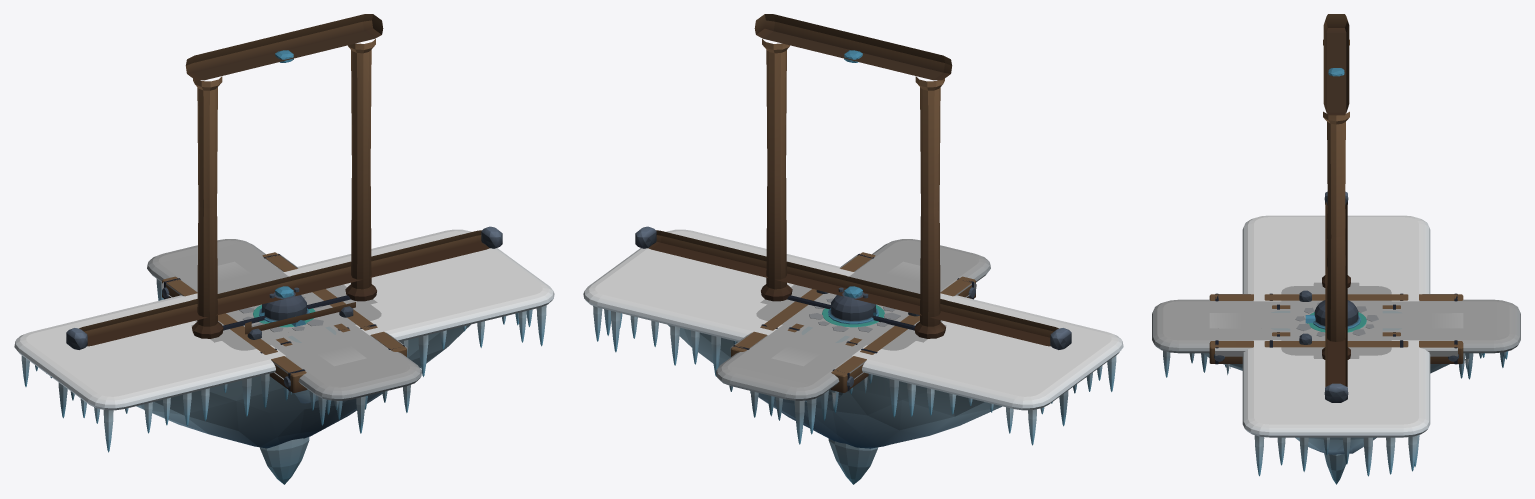
File: glacier-6-BM2rkBeL.glb
3 views of the same model, side by side, from view 1: azimuth 30°, elevation 25°; view 2: azimuth 150°, elevation 25°; view 3: azimuth 270°, elevation 25° (orthographic). The views are drawn at different scales.
Parts seen in each view (by area): view 1: block_28x2x10#0, pressFrame_7.5x6x2.5x7#0, block_6x2x20#0, mount_12.7#0, beam_2x2x14#0, belt_7x1.5x14x0#0, barHub_11x1.2#0, blade_3x10x1_wheel#0, belt_7x1.5x8x0#0, block_10x2x7#0, block_7x2x6#0, mount_10_wheel#0; view 2: block_28x2x10#0, pressFrame_7.5x6x2.5x7#0, block_6x2x20#0, mount_12.7#0, beam_2x2x14#0, belt_7x1.5x14x0#0, barHub_11x1.2#0, belt_7x1.5x8x0#0, block_7x2x6#0, blade_3x10x1_wheel#0, block_10x2x7#0, jumppad_5x1#0; view 3: block_28x2x10#0, block_6x2x20#0, pressFrame_7.5x6x2.5x7#0, beam_2x2x14#0, belt_7x1.5x14x0#0, mount_12.7#0, belt_7x1.5x8x0#0, block_10x2x7#0, block_7x2x6#0, block_5x2x10#0, jumppad_5x1#0, barHub_11x1.2#0 (+1 smaller).
Part boxes in pixels (bbox=[...]): block_28x2x10#0: bbox=[14, 229, 554, 452]; pressFrame_7.5x6x2.5x7#0: bbox=[185, 14, 383, 338]; block_6x2x20#0: bbox=[147, 239, 421, 433]; mount_12.7#0: bbox=[66, 226, 502, 349]; beam_2x2x14#0: bbox=[217, 261, 366, 366]; belt_7x1.5x14x0#0: bbox=[161, 252, 407, 394]; barHub_11x1.2#0: bbox=[222, 286, 350, 330]; blade_3x10x1_wheel#0: bbox=[260, 437, 309, 484]; belt_7x1.5x8x0#0: bbox=[192, 273, 377, 354]; block_10x2x7#0: bbox=[195, 284, 381, 350]; block_7x2x6#0: bbox=[226, 292, 349, 341]; mount_10_wheel#0: bbox=[245, 302, 355, 339]; block_28x2x10#0: bbox=[583, 229, 1123, 448]; pressFrame_7.5x6x2.5x7#0: bbox=[754, 14, 952, 338]; block_6x2x20#0: bbox=[716, 239, 990, 444]; mount_12.7#0: bbox=[635, 226, 1071, 349]; beam_2x2x14#0: bbox=[771, 261, 920, 366]; belt_7x1.5x14x0#0: bbox=[730, 252, 976, 409]; barHub_11x1.2#0: bbox=[787, 286, 915, 330]; belt_7x1.5x8x0#0: bbox=[760, 273, 945, 392]; block_7x2x6#0: bbox=[788, 293, 908, 341]; blade_3x10x1_wheel#0: bbox=[828, 439, 877, 484]; block_10x2x7#0: bbox=[756, 284, 942, 350]; jumppad_5x1#0: bbox=[809, 298, 900, 332]; block_28x2x10#0: bbox=[1242, 215, 1430, 476]; block_6x2x20#0: bbox=[1152, 299, 1520, 378]; pressFrame_7.5x6x2.5x7#0: bbox=[1322, 14, 1350, 359]; beam_2x2x14#0: bbox=[1209, 313, 1463, 368]; belt_7x1.5x14x0#0: bbox=[1209, 293, 1469, 374]; mount_12.7#0: bbox=[1324, 191, 1348, 402]; belt_7x1.5x8x0#0: bbox=[1264, 293, 1408, 347]; block_10x2x7#0: bbox=[1281, 286, 1391, 355]; block_7x2x6#0: bbox=[1290, 300, 1382, 340]; block_5x2x10#0: bbox=[1254, 305, 1418, 336]; jumppad_5x1#0: bbox=[1295, 302, 1378, 336]; barHub_11x1.2#0: bbox=[1313, 300, 1360, 329].
Size of the model in its own units: 28.36 by 26.1 by 20.36.
